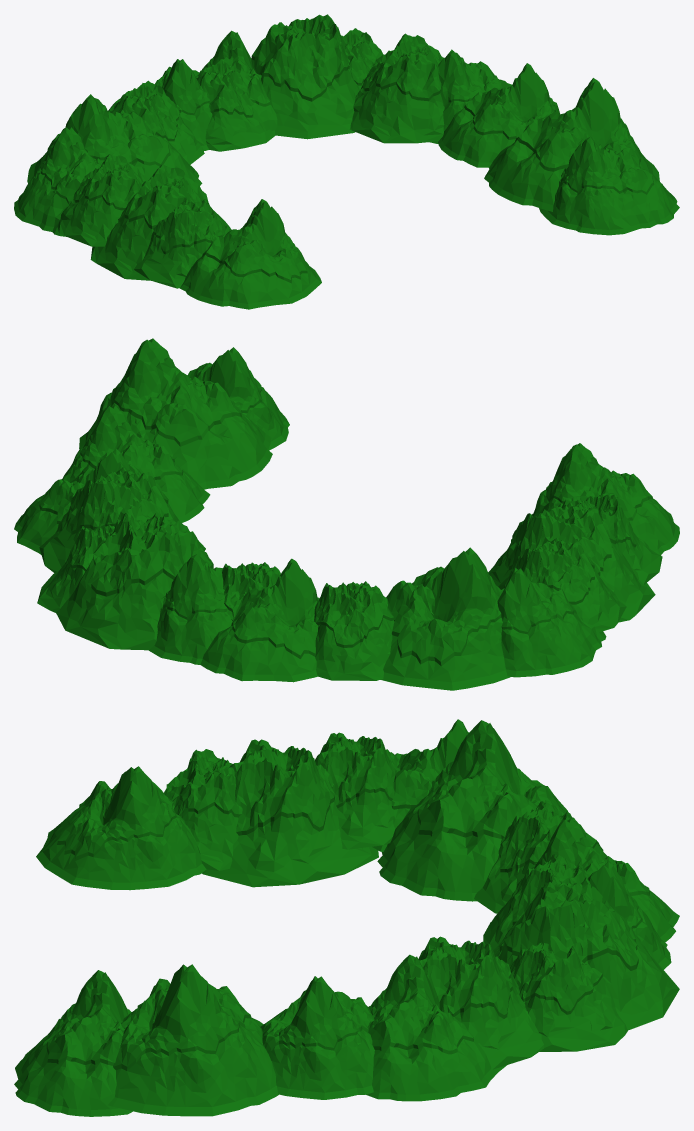
Rendered from montañas.fbx.
3 views of the same model, one above another, from view 1: azimuth 30°, elevation 25°; view 2: azimuth 150°, elevation 25°; view 3: azimuth 270°, elevation 25° (orthographic). The views are drawn at different scales.
Visible parts, largest first — view 1: PP_Forest_Mountain_Moss_02_3, PP_Forest_Mountain_Moss_01, PP_Forest_Mountain_Moss_01_6, PP_Forest_Mountain_Moss_01_4, PP_Forest_Mountain_Moss_02_2, PP_Forest_Mountain_Moss_01_5, PP_Forest_Mountain_Moss_02_5, PP_Forest_Mountain_Moss_01_8, PP_Forest_Mountain_Moss_02_9, PP_Forest_Mountain_Moss_02, PP_Forest_Mountain_Moss_01_2, PP_Forest_Mountain_Moss_02_6 (+5 smaller); view 2: PP_Forest_Mountain_Moss_01_8, PP_Forest_Mountain_Moss_01_6, PP_Forest_Mountain_Moss_02_3, PP_Forest_Mountain_Moss_01_1, PP_Forest_Mountain_Moss_01_2, PP_Forest_Mountain_Moss_02_10, PP_Forest_Mountain_Moss_02_5, PP_Forest_Mountain_Moss_01, PP_Forest_Mountain_Moss_01_3, PP_Forest_Mountain_Moss_02_2, PP_Forest_Mountain_Moss_01_5, PP_Forest_Mountain_Moss_02_9 (+5 smaller); view 3: PP_Forest_Mountain_Moss_01_6, PP_Forest_Mountain_Moss_01_8, PP_Forest_Mountain_Moss_02_5, PP_Forest_Mountain_Moss_01, PP_Forest_Mountain_Moss_01_7, PP_Forest_Mountain_Moss_02_3, PP_Forest_Mountain_Moss_01_4, PP_Forest_Mountain_Moss_01_5, PP_Forest_Mountain_Moss_02_2, PP_Forest_Mountain_Moss_02_1, PP_Forest_Mountain_Moss_02_9, PP_Forest_Mountain_Moss_02 (+5 smaller).
Part boxes in pixels (bbox=[...]): PP_Forest_Mountain_Moss_02_3: bbox=[251, 14, 359, 139]; PP_Forest_Mountain_Moss_01: bbox=[180, 199, 321, 309]; PP_Forest_Mountain_Moss_01_6: bbox=[484, 78, 659, 211]; PP_Forest_Mountain_Moss_01_4: bbox=[539, 135, 679, 235]; PP_Forest_Mountain_Moss_02_2: bbox=[349, 33, 444, 143]; PP_Forest_Mountain_Moss_01_5: bbox=[438, 63, 559, 167]; PP_Forest_Mountain_Moss_02_5: bbox=[90, 164, 231, 280]; PP_Forest_Mountain_Moss_01_8: bbox=[27, 94, 202, 185]; PP_Forest_Mountain_Moss_02_9: bbox=[57, 154, 145, 246]; PP_Forest_Mountain_Moss_02: bbox=[134, 199, 230, 288]; PP_Forest_Mountain_Moss_01_2: bbox=[14, 127, 102, 236]; PP_Forest_Mountain_Moss_02_6: bbox=[196, 57, 274, 151]; PP_Forest_Mountain_Moss_01_8: bbox=[380, 547, 510, 690]; PP_Forest_Mountain_Moss_01_6: bbox=[79, 338, 272, 489]; PP_Forest_Mountain_Moss_02_3: bbox=[56, 506, 213, 650]; PP_Forest_Mountain_Moss_01_1: bbox=[200, 558, 319, 682]; PP_Forest_Mountain_Moss_01_2: bbox=[497, 568, 606, 677]; PP_Forest_Mountain_Moss_02_10: bbox=[314, 581, 394, 680]; PP_Forest_Mountain_Moss_02_5: bbox=[488, 502, 655, 622]; PP_Forest_Mountain_Moss_01: bbox=[531, 443, 679, 555]; PP_Forest_Mountain_Moss_01_3: bbox=[149, 552, 232, 664]; PP_Forest_Mountain_Moss_02_2: bbox=[39, 467, 205, 572]; PP_Forest_Mountain_Moss_01_5: bbox=[61, 405, 210, 522]; PP_Forest_Mountain_Moss_02_9: bbox=[498, 537, 626, 632]; PP_Forest_Mountain_Moss_01_6: bbox=[108, 964, 278, 1116]; PP_Forest_Mountain_Moss_01_8: bbox=[377, 720, 585, 901]; PP_Forest_Mountain_Moss_02_5: bbox=[202, 739, 378, 887]; PP_Forest_Mountain_Moss_01: bbox=[36, 766, 206, 890]; PP_Forest_Mountain_Moss_01_7: bbox=[366, 954, 506, 1101]; PP_Forest_Mountain_Moss_02_3: bbox=[493, 878, 679, 1030]; PP_Forest_Mountain_Moss_01_4: bbox=[14, 970, 132, 1116]; PP_Forest_Mountain_Moss_01_5: bbox=[260, 976, 374, 1099]; PP_Forest_Mountain_Moss_02_2: bbox=[418, 936, 543, 1069]; PP_Forest_Mountain_Moss_02_1: bbox=[510, 942, 627, 1051]; PP_Forest_Mountain_Moss_02_9: bbox=[315, 732, 400, 849]; PP_Forest_Mountain_Moss_02: bbox=[164, 749, 242, 870].
Bounding box in the file's own units: 40308 × 7313 × 33613.
